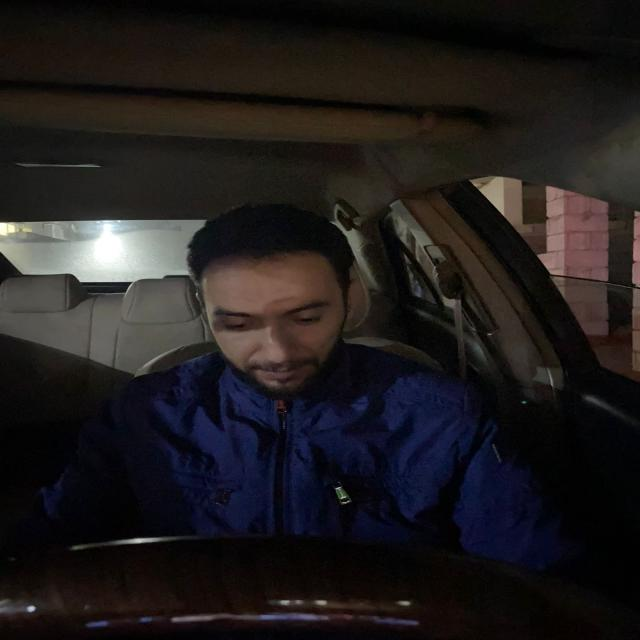person: (182, 196, 369, 401)
